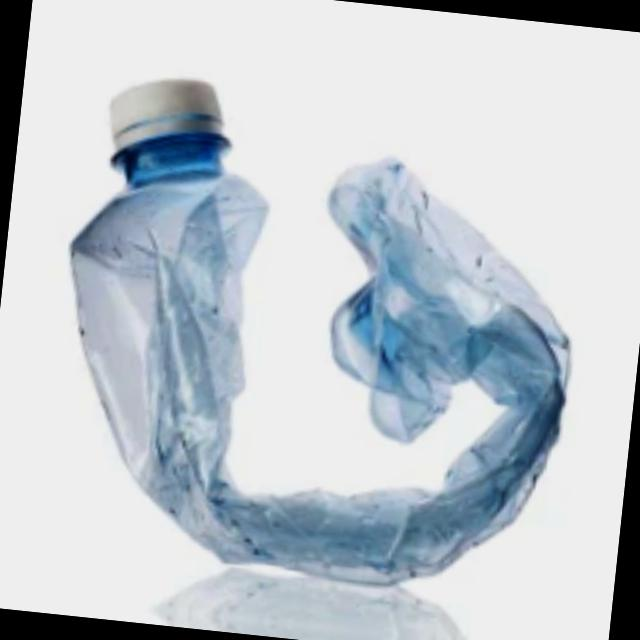Plastic: (28, 28, 626, 605)
